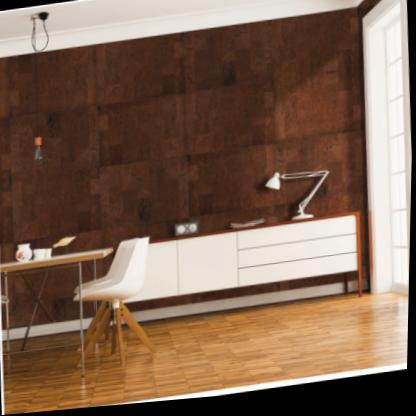Sideboard: (124, 221, 367, 308)
Wall Panel: (0, 11, 370, 269)
Wooden floor: (5, 300, 410, 415)
